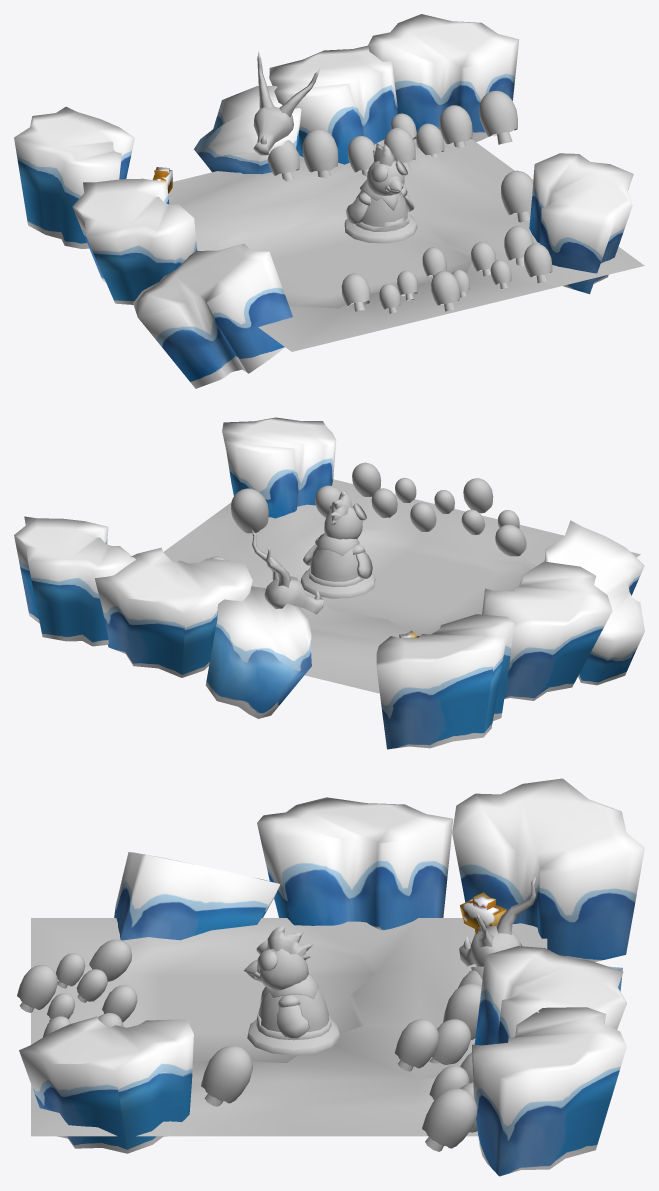
Rendered from Map_1_C_Tower.FBX.
The picture shows the model from 3 angles, top to bottom: view 1: azimuth 30°, elevation 25°; view 2: azimuth 150°, elevation 25°; view 3: azimuth 270°, elevation 25°; orthographic projection. The views are drawn at different scales.
Parts seen in each view (by area): view 1: tereno2, Iceberg022, Iceberg020, Iceberg021, Iceberg018, Iceberg016, Iceberg011, Iceberg019, Chicken, Animal bones1, Icethree036, Icethree038 (+12 smaller); view 2: tereno2, Iceberg018, Iceberg011, Iceberg021, Iceberg020, Iceberg019, Iceberg016, Iceberg022, Chicken, Animal bones1, Icethree047, Icethree049 (+5 smaller); view 3: tereno2, Iceberg018, Iceberg021, Iceberg020, Iceberg016, Iceberg022, Iceberg011, Chicken, Icethree036, Icethree047, Animal bones1, Icethree042 (+10 smaller).
Part boxes in pixels (<box>): tereno2: <box>168,130,644,351</box>; Iceberg022: <box>133,243,292,388</box>; Iceberg020: <box>368,14,519,141</box>; Iceberg021: <box>72,178,197,304</box>; Iceberg018: <box>14,107,134,248</box>; Iceberg016: <box>529,153,633,294</box>; Iceberg011: <box>269,45,397,164</box>; Iceberg019: <box>194,86,301,174</box>; Chicken: <box>344,143,417,243</box>; Animal bones1: <box>253,51,320,155</box>; Icethree036: <box>479,90,517,144</box>; Icethree038: <box>302,129,338,177</box>; tereno2: <box>163,479,640,693</box>; Iceberg018: <box>376,614,514,749</box>; Iceberg011: <box>94,547,252,677</box>; Iceberg021: <box>482,561,612,700</box>; Iceberg020: <box>14,516,135,646</box>; Iceberg019: <box>205,586,311,718</box>; Iceberg016: <box>222,417,336,518</box>; Iceberg022: <box>544,520,644,685</box>; Chicken: <box>300,490,375,598</box>; Animal bones1: <box>251,529,323,614</box>; Icethree047: <box>231,488,268,533</box>; Icethree049: <box>463,478,493,513</box>; tereno2: <box>31,918,547,1136</box>; Iceberg018: <box>452,778,644,961</box>; Iceberg021: <box>257,797,453,930</box>; Iceberg020: <box>472,1007,626,1176</box>; Iceberg016: <box>19,1016,193,1153</box>; Iceberg022: <box>114,852,280,940</box>; Iceberg011: <box>474,946,626,1045</box>; Chicken: <box>247,925,339,1055</box>; Icethree036: <box>422,1088,477,1151</box>; Icethree047: <box>201,1045,252,1106</box>; Animal bones1: <box>459,877,535,966</box>; Icethree042: <box>394,1019,439,1071</box>.
Bounding box in the file's own units: 714 × 248 × 611.
